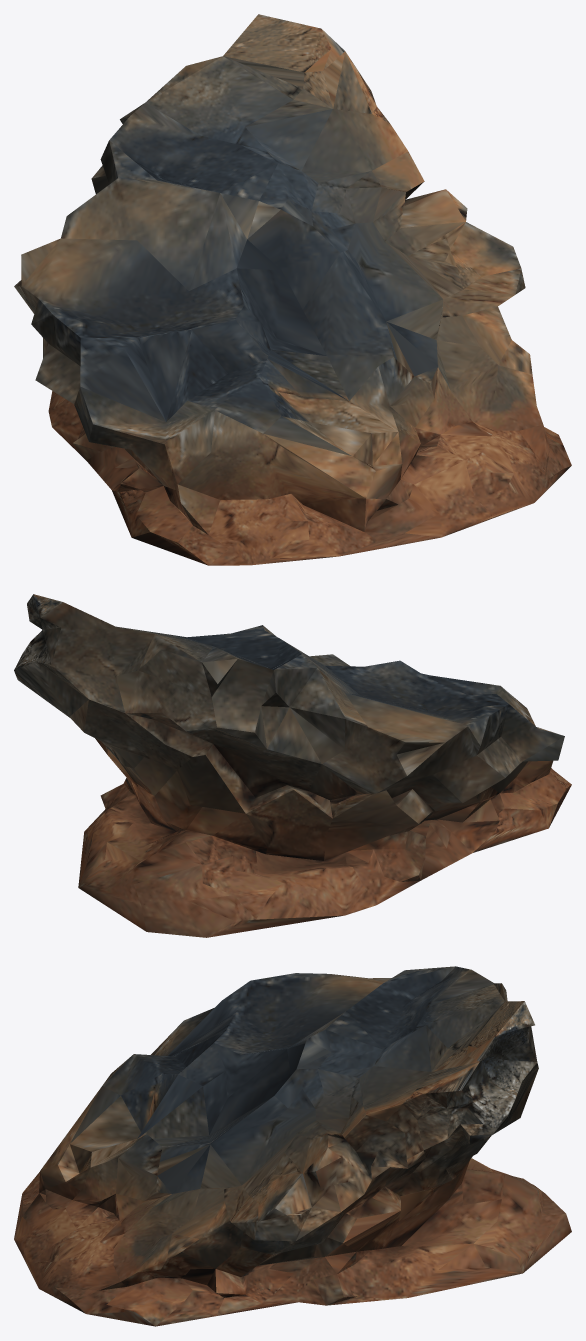
3 views of the same model, one above another, from view 1: azimuth 30°, elevation 25°; view 2: azimuth 150°, elevation 25°; view 3: azimuth 270°, elevation 25° (orthographic). The views are drawn at different scales.
Parts seen in each view (by area): view 1: meteor_shard; view 2: meteor_shard; view 3: meteor_shard.
Part boxes in pixels (box(x1,y1,x2,y2)): meteor_shard: box(14, 14, 571, 565); meteor_shard: box(14, 594, 571, 937); meteor_shard: box(14, 966, 571, 1326).
Size of the model in its own units: 0.8889 by 0.5482 by 0.9806.
Materials: 1 (1 with a texture image).
